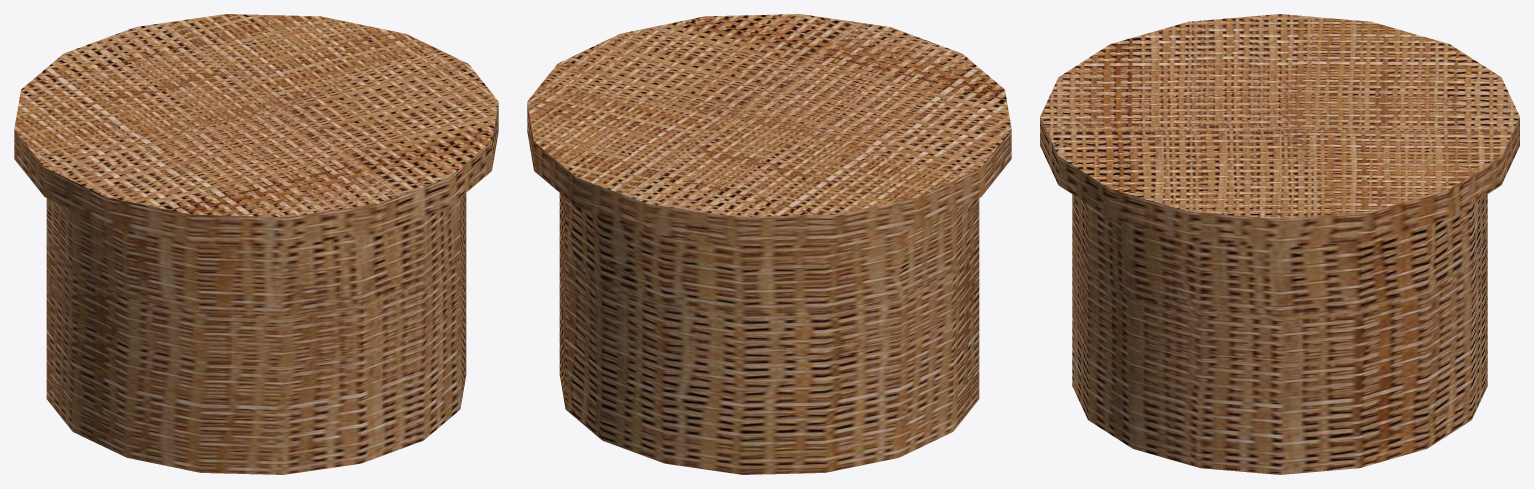
Rendered from BasketRound.FBX.
3 renders of one model, left to right at view 1: azimuth 30°, elevation 25°; view 2: azimuth 150°, elevation 25°; view 3: azimuth 270°, elevation 25°, orthographic.
Parts seen in each view (by area): view 1: BasketRound; view 2: BasketRound; view 3: BasketRound.
Boxes of the visible parts, x1=… form: BasketRound: x1=14, y1=14, x2=498, y2=474; BasketRound: x1=527, y1=14, x2=1011, y2=474; BasketRound: x1=1040, y1=14, x2=1519, y2=474.
Bounding box in the file's own units: 0.5833 × 0.3567 × 0.5758.
